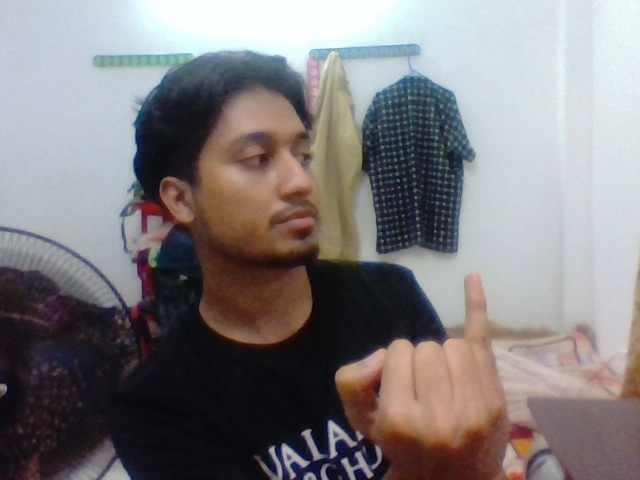I: (360, 266, 524, 476)
